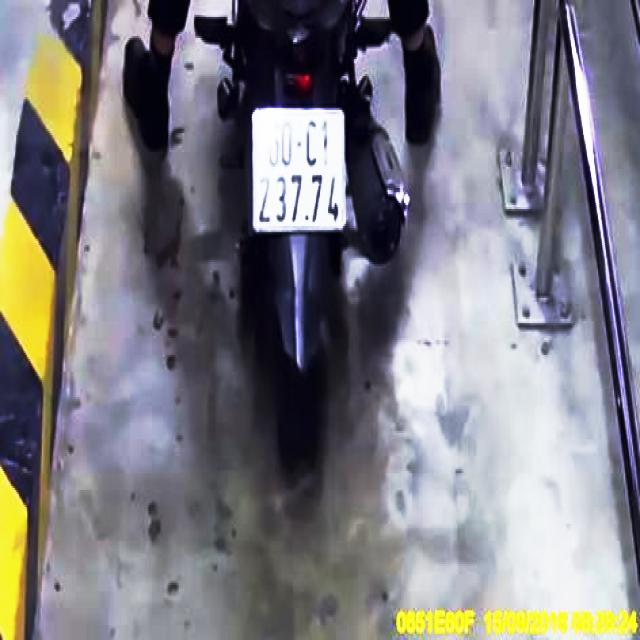license_plate: (254, 113, 346, 229)
